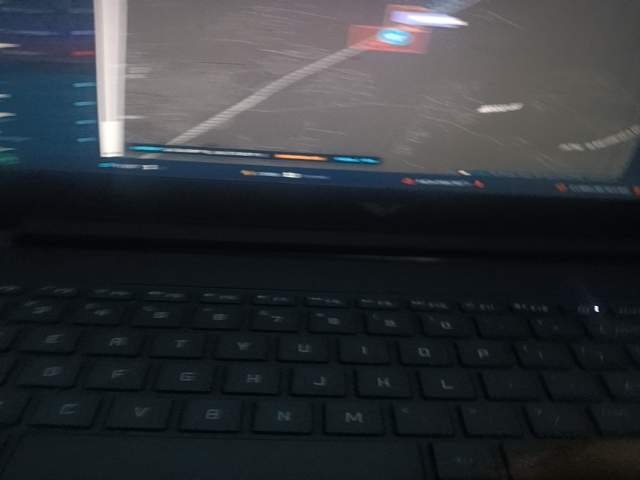pothole: (104, 403, 311, 480), (535, 403, 640, 480)
